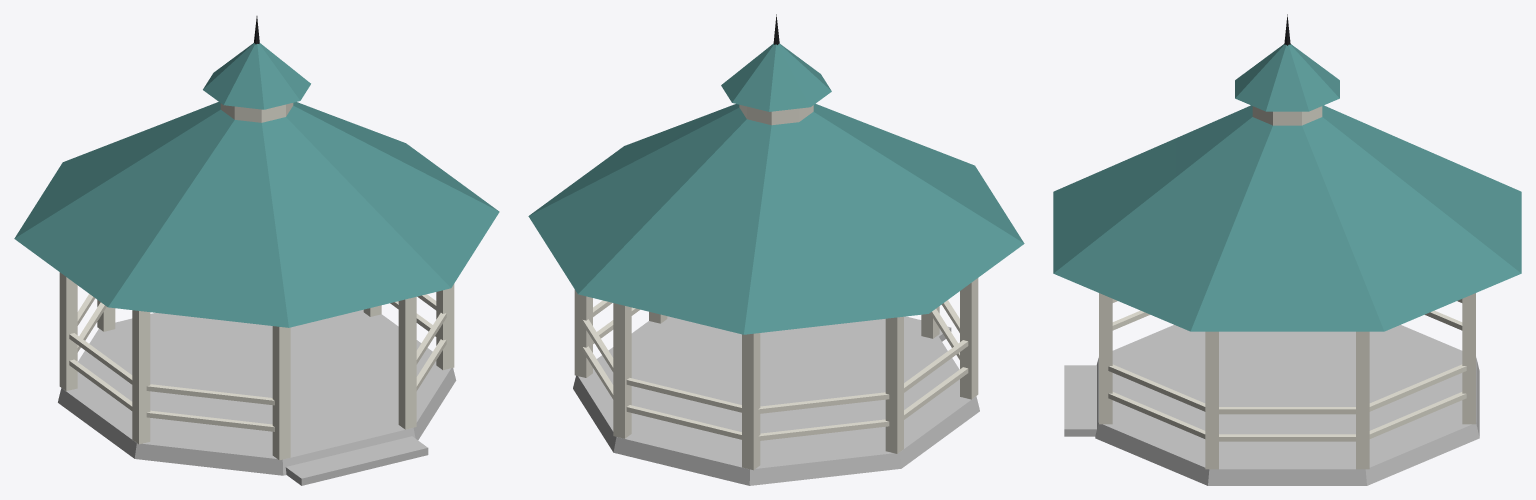
Rendered from gazebo.gltf.
The picture shows the model from 3 angles, left to right: view 1: azimuth 30°, elevation 25°; view 2: azimuth 150°, elevation 25°; view 3: azimuth 270°, elevation 25°; orthographic projection. The views are drawn at different scales.
Parts seen in each view (by area): view 1: Roof.024, Floor.001, CupolaRoof.026, Step.028, Post.009, Post.008, Post.002, Post.007, Post.003, Rail.023, Rail.022, Cupola.025 (+2 smaller); view 2: Roof.024, Floor.001, CupolaRoof.026, Post.006, Post.007, Post.005, Post.008, Post.004, Rail.019, Rail.018, Rail.016, Rail.017 (+3 smaller); view 3: Roof.024, Floor.001, CupolaRoof.026, Step.028, Post.003, Post.004, Post.002, Post.005, Rail.012, Rail.013, Cupola.025, Rail.010 (+3 smaller).
Part boxes in pixels (bbox=[...]): Roof.024: bbox=[14, 102, 499, 327]; Floor.001: bbox=[58, 309, 456, 475]; CupolaRoof.026: bbox=[203, 43, 310, 109]; Step.028: bbox=[285, 436, 428, 485]; Post.009: bbox=[272, 326, 290, 460]; Post.008: bbox=[132, 310, 150, 444]; Post.002: bbox=[398, 297, 416, 429]; Post.007: bbox=[59, 272, 77, 391]; Post.003: bbox=[436, 284, 454, 370]; Rail.023: bbox=[146, 384, 274, 405]; Rail.022: bbox=[146, 410, 274, 431]; Cupola.025: bbox=[220, 103, 293, 122]; Roof.024: bbox=[528, 103, 1024, 334]; Floor.001: bbox=[573, 316, 979, 485]; CupolaRoof.026: bbox=[721, 43, 831, 111]; Post.006: bbox=[742, 333, 760, 470]; Post.007: bbox=[885, 316, 903, 453]; Post.005: bbox=[613, 303, 631, 438]; Post.008: bbox=[960, 278, 978, 399]; Post.004: bbox=[574, 289, 592, 377]; Rail.019: bbox=[758, 392, 889, 413]; Rail.018: bbox=[758, 419, 889, 440]; Rail.016: bbox=[626, 405, 741, 439]; Rail.017: bbox=[626, 378, 741, 412]; Roof.024: bbox=[1053, 105, 1521, 331]; Floor.001: bbox=[1095, 325, 1479, 485]; CupolaRoof.026: bbox=[1235, 44, 1339, 111]; Step.028: bbox=[1064, 365, 1096, 436]; Post.003: bbox=[1205, 331, 1218, 469]; Post.004: bbox=[1356, 331, 1369, 469]; Post.002: bbox=[1099, 293, 1112, 424]; Post.005: bbox=[1462, 293, 1475, 424]; Rail.012: bbox=[1219, 434, 1355, 441]; Rail.013: bbox=[1219, 407, 1355, 414]; Cupola.025: bbox=[1252, 106, 1322, 125]; Rail.010: bbox=[1108, 392, 1205, 438].
Size of the model in its own units: 6.19 by 5.7 by 6.19.
